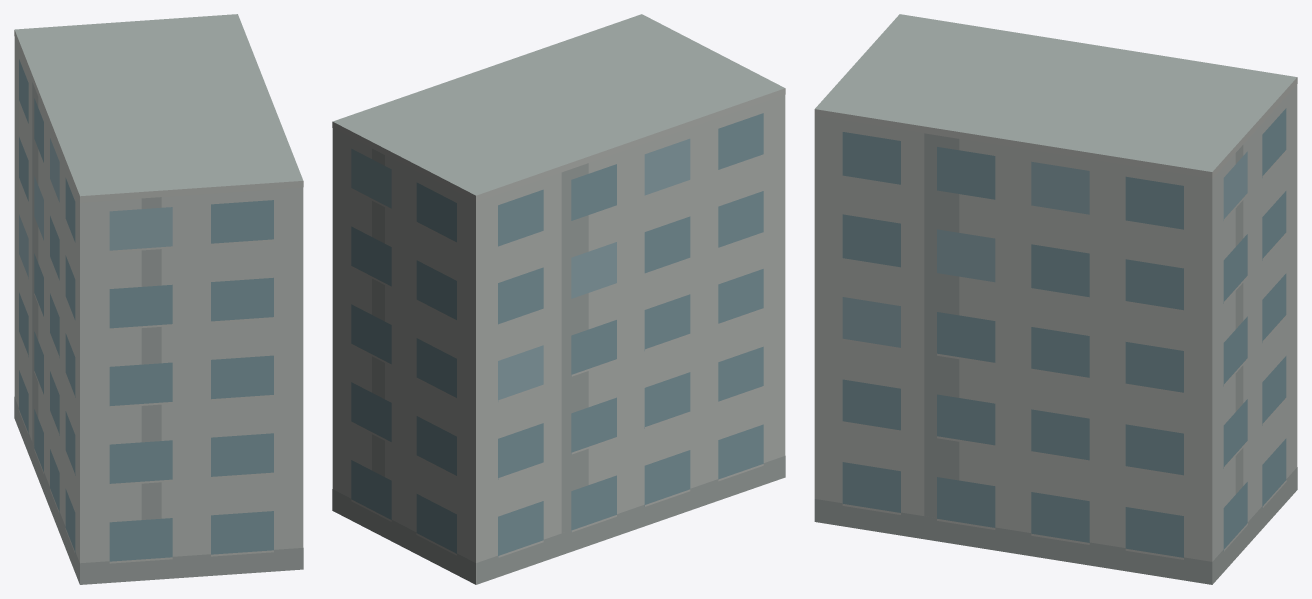
Rendered from survey-upis-32886861.glb.
3 renders of one model, left to right at view 1: azimuth 30°, elevation 25°; view 2: azimuth 150°, elevation 25°; view 3: azimuth 270°, elevation 25°, orthographic. The views are drawn at different scales.
Parts seen in each view (by area): view 1: survey-upis-32886861.tmp; view 2: survey-upis-32886861.tmp; view 3: survey-upis-32886861.tmp.
Part boxes in pixels (x1,y1,x2,y2): survey-upis-32886861.tmp: (14,14,303,584); survey-upis-32886861.tmp: (332,14,785,584); survey-upis-32886861.tmp: (814,14,1297,584).
Bounding box in the file's own units: 12 × 14.6 × 15.49.
